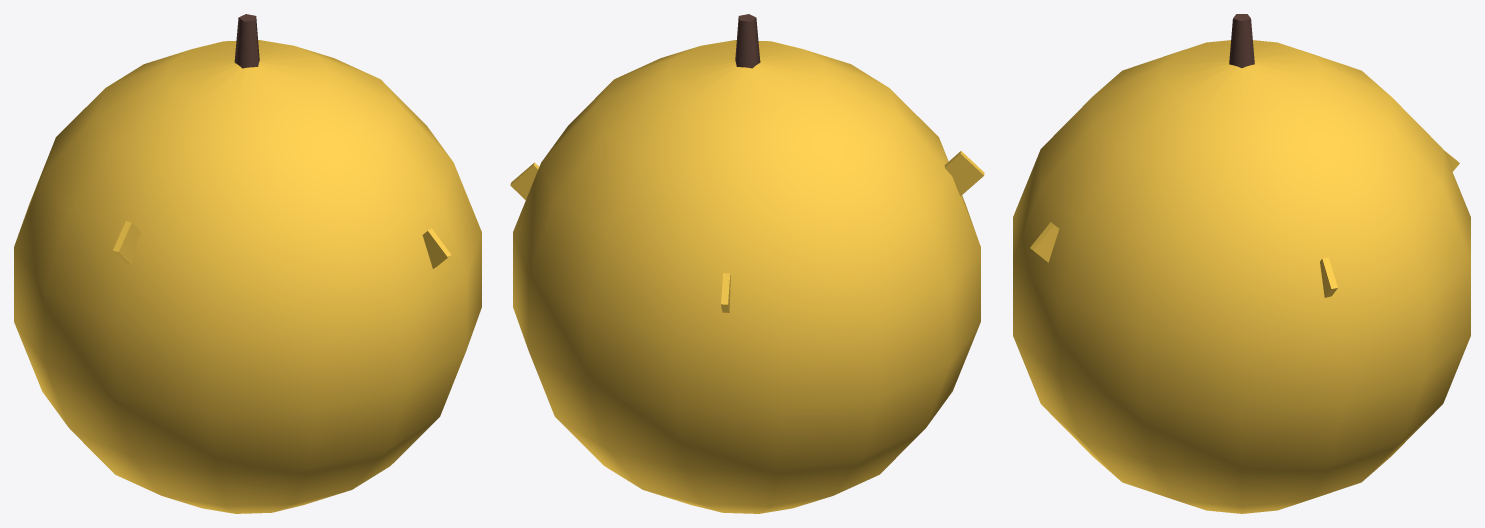
The model's file is fruit-coconut-gold.gltf.
3 renders of one model, left to right at view 1: azimuth 30°, elevation 25°; view 2: azimuth 150°, elevation 25°; view 3: azimuth 270°, elevation 25°, orthographic.
Bounding box in the file's own units: 0.5515 × 0.616 × 0.5377.
